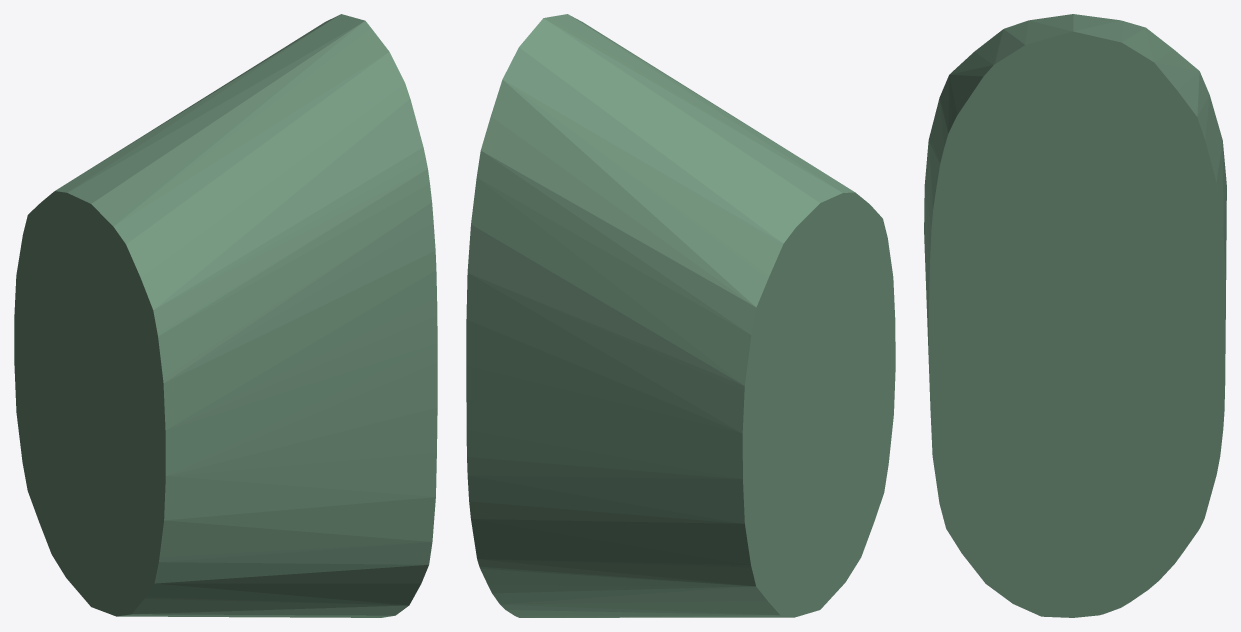
3 views of the same model, side by side, from view 1: azimuth 30°, elevation 25°; view 2: azimuth 150°, elevation 25°; view 3: azimuth 270°, elevation 25° (orthographic).
Size of the model in its own units: 0.0189 by 0.0386 by 0.0181.
